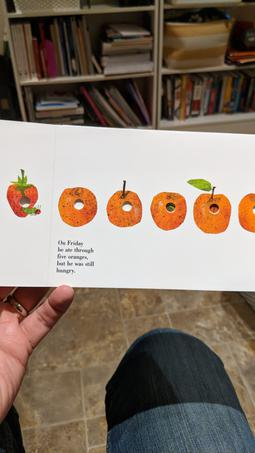text block: (49, 232, 99, 277)
